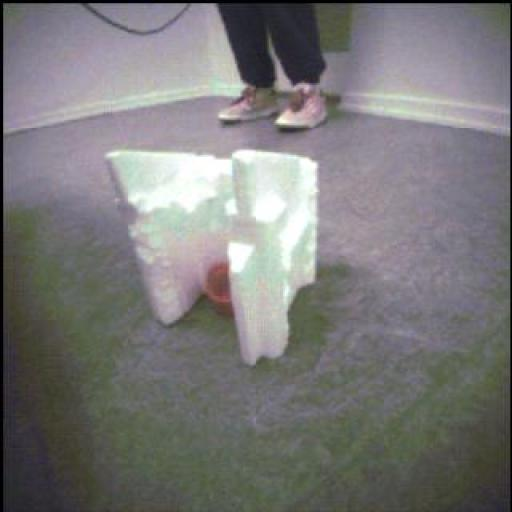Bucket: (208, 266, 238, 314)
